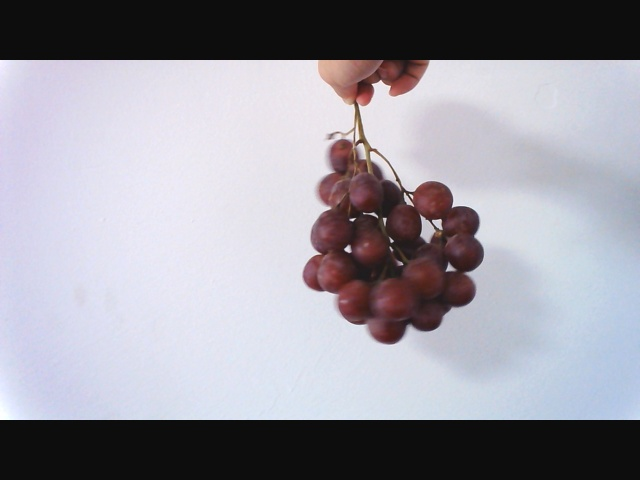grape: (283, 119, 506, 355)
